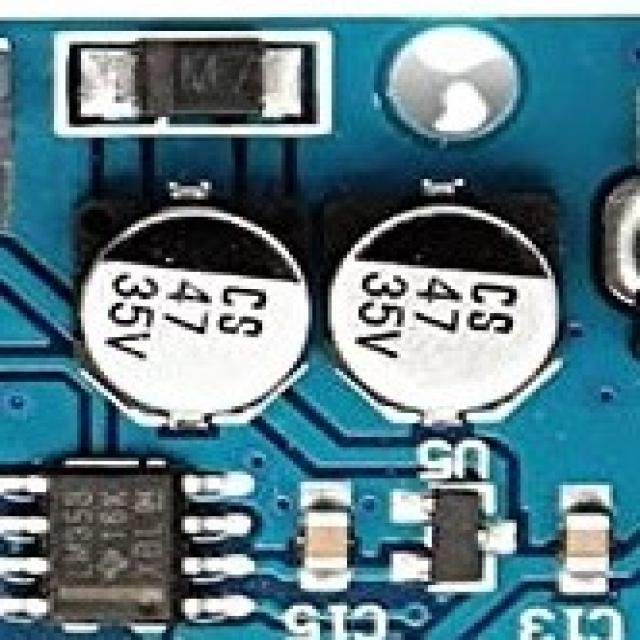4439: (404, 480, 493, 587)
IC: (5, 461, 221, 628)
capacitor 1V5: (322, 185, 566, 456), (56, 189, 310, 430), (550, 500, 616, 607), (296, 499, 352, 584)
diode -D1-: (103, 33, 290, 129)
